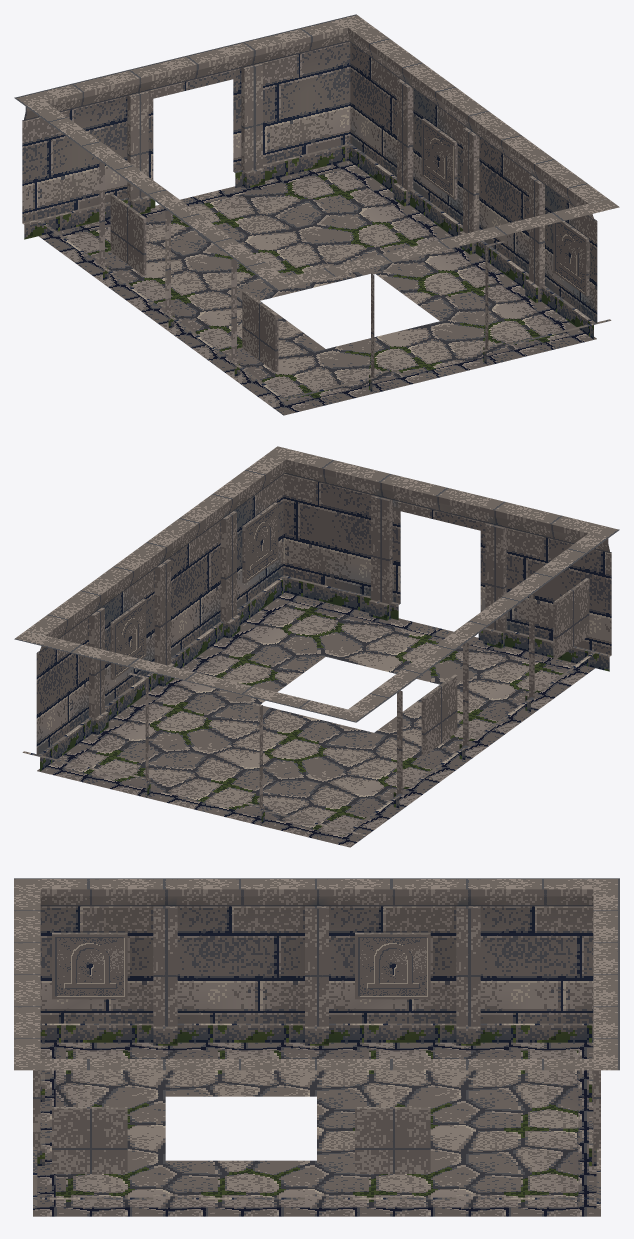
The model's file is dgn.room__boss_hall.glb.
The picture shows the model from 3 angles, top to bottom: view 1: azimuth 30°, elevation 25°; view 2: azimuth 150°, elevation 25°; view 3: azimuth 270°, elevation 25°; orthographic projection. The views are drawn at different scales.
Visible parts, largest first — view 1: kit_shell_walls, kit_shell_floor, kit_reliefs; view 2: kit_shell_walls, kit_shell_floor, kit_reliefs; view 3: kit_shell_walls, kit_shell_floor, kit_reliefs.
Boxes of the visible parts, x1,y1,x2,y2 form: kit_shell_walls: (14,14,619,403); kit_shell_floor: (39,160,596,415); kit_reliefs: (110,118,589,372); kit_shell_walls: (14,446,619,835); kit_shell_floor: (37,592,594,847); kit_reliefs: (110,502,589,755); kit_shell_walls: (14,878,619,1207); kit_shell_floor: (33,1042,600,1216); kit_reliefs: (52,932,430,1173).
Bounding box in the file's own units: 12 × 4.5 × 16.
6 materials, 6 textured.
